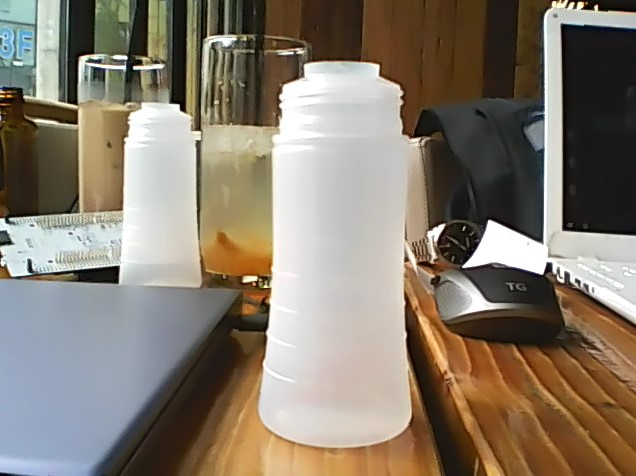Plastic: (259, 59, 412, 445)
